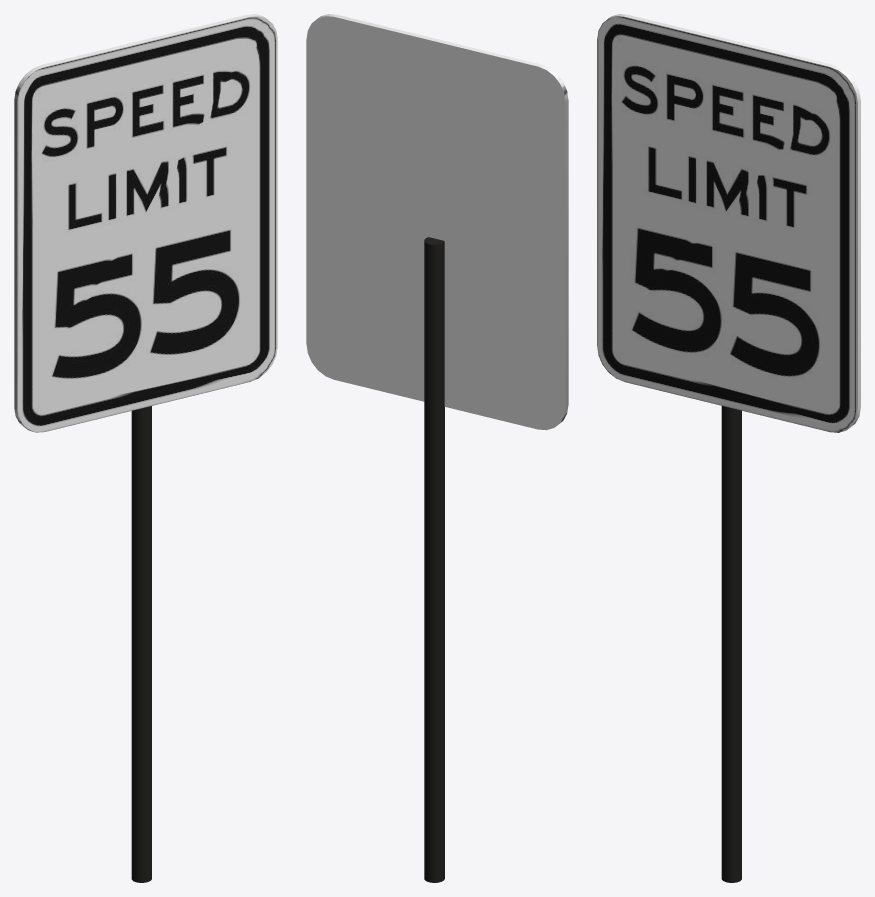
Rendered from Placa.fbx.
The picture shows the model from 3 angles, left to right: view 1: azimuth 30°, elevation 25°; view 2: azimuth 150°, elevation 25°; view 3: azimuth 330°, elevation 25°; orthographic projection.
Parts seen in each view (by area): view 1: Plane, Cylinder; view 2: Plane, Cylinder; view 3: Plane, Cylinder.
Part boxes in pixels (bbox=[...]): Plane: bbox=[14, 14, 277, 432]; Cylinder: bbox=[131, 406, 151, 882]; Plane: bbox=[306, 14, 568, 430]; Cylinder: bbox=[424, 237, 444, 882]; Plane: bbox=[597, 14, 860, 432]; Cylinder: bbox=[721, 406, 741, 882].
Size of the model in its own units: 147 by 453 by 10.08.
2 materials, 1 textured.
